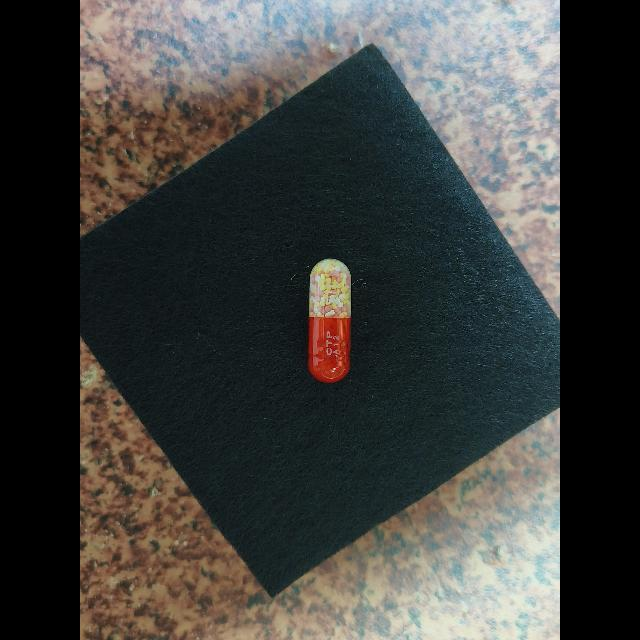Intact Capsule: (308, 258, 351, 383)
